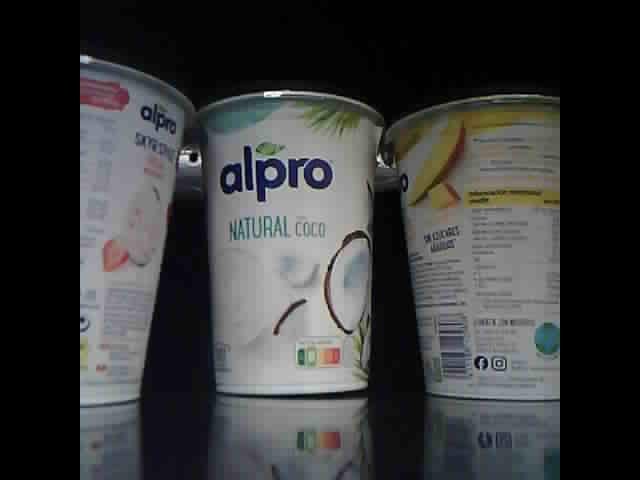alpro: (195, 81, 386, 396), (381, 90, 560, 404), (79, 49, 197, 409)
